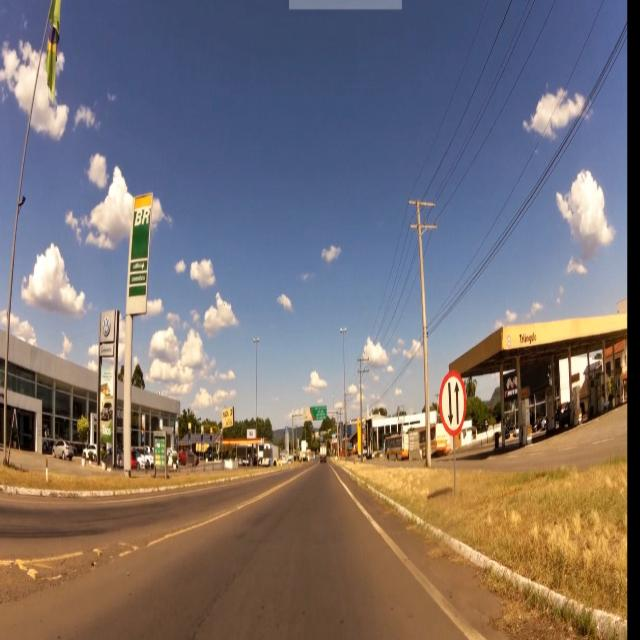R-28: (438, 372, 468, 440)
